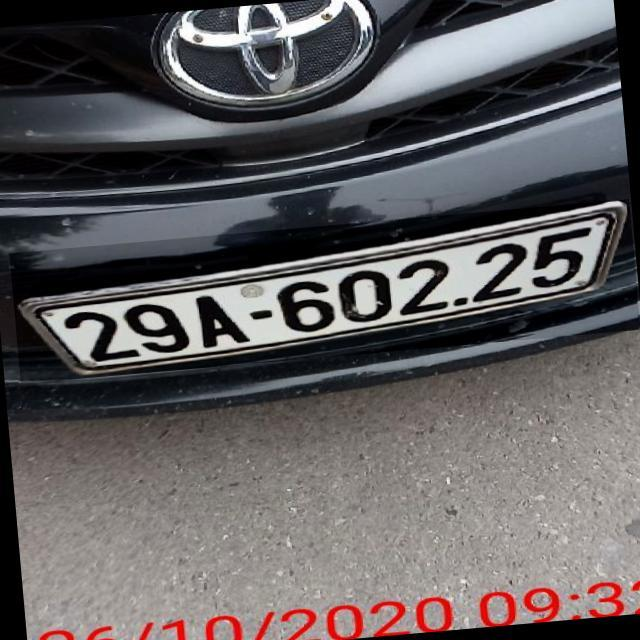car: (0, 3, 640, 403)
plate: (15, 194, 625, 378)
